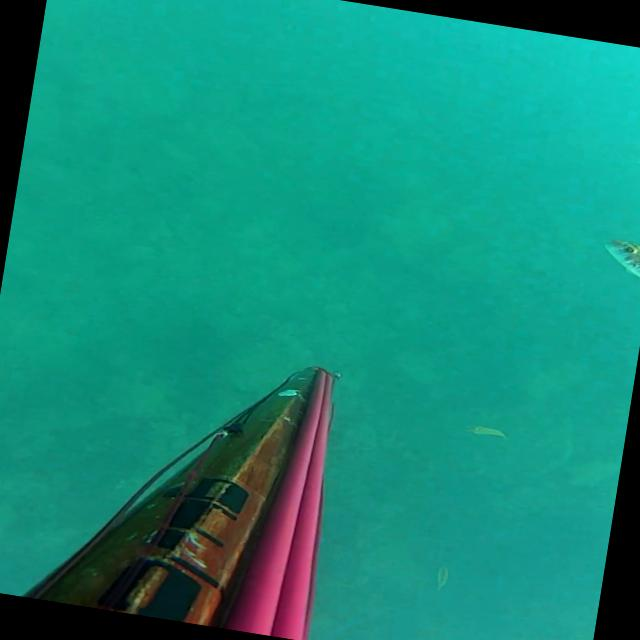Balon Baligi: (600, 236, 640, 282), (464, 422, 509, 439), (435, 566, 449, 590)
